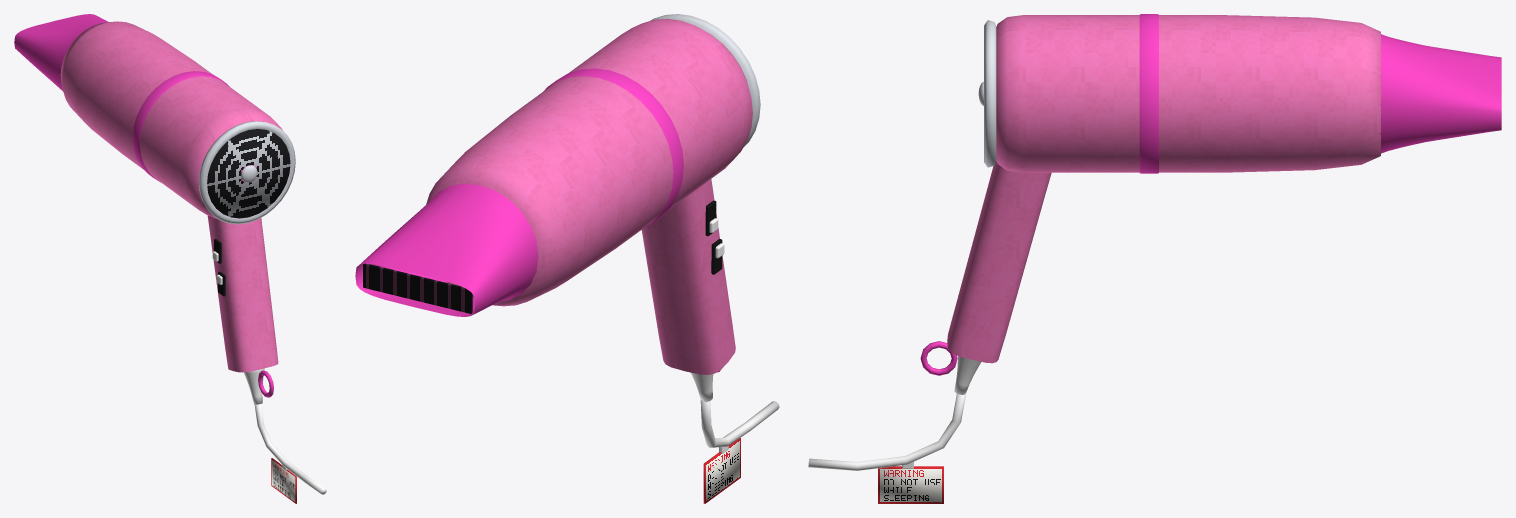
File: w_blower_dryer.glb
3 views of the same model, side by side, from view 1: azimuth 30°, elevation 25°; view 2: azimuth 150°, elevation 25°; view 3: azimuth 270°, elevation 25° (orthographic). The views are drawn at different scales.
Visible parts, largest first — view 1: dryer_body_wzB, dryer_body_wzN, dryer_body_wzA; view 2: dryer_body_wzB, dryer_body_wzA, dryer_body_wzN; view 3: dryer_body_wzB, dryer_body_wzA, dryer_body_wzN.
Part boxes in pixels (x1,y1,x2,y2): dryer_body_wzB: (14,14,295,397); dryer_body_wzN: (207,129,326,503); dryer_body_wzA: (207,215,278,372); dryer_body_wzB: (355,14,760,372); dryer_body_wzA: (641,179,735,374); dryer_body_wzN: (363,200,779,503); dryer_body_wzB: (920,14,1501,375); dryer_body_wzA: (947,161,1051,363); dryer_body_wzN: (808,356,981,503).
Size of the model in its own units: 0.1644 by 0.5412 by 0.7123.
8 materials, 4 textured.
